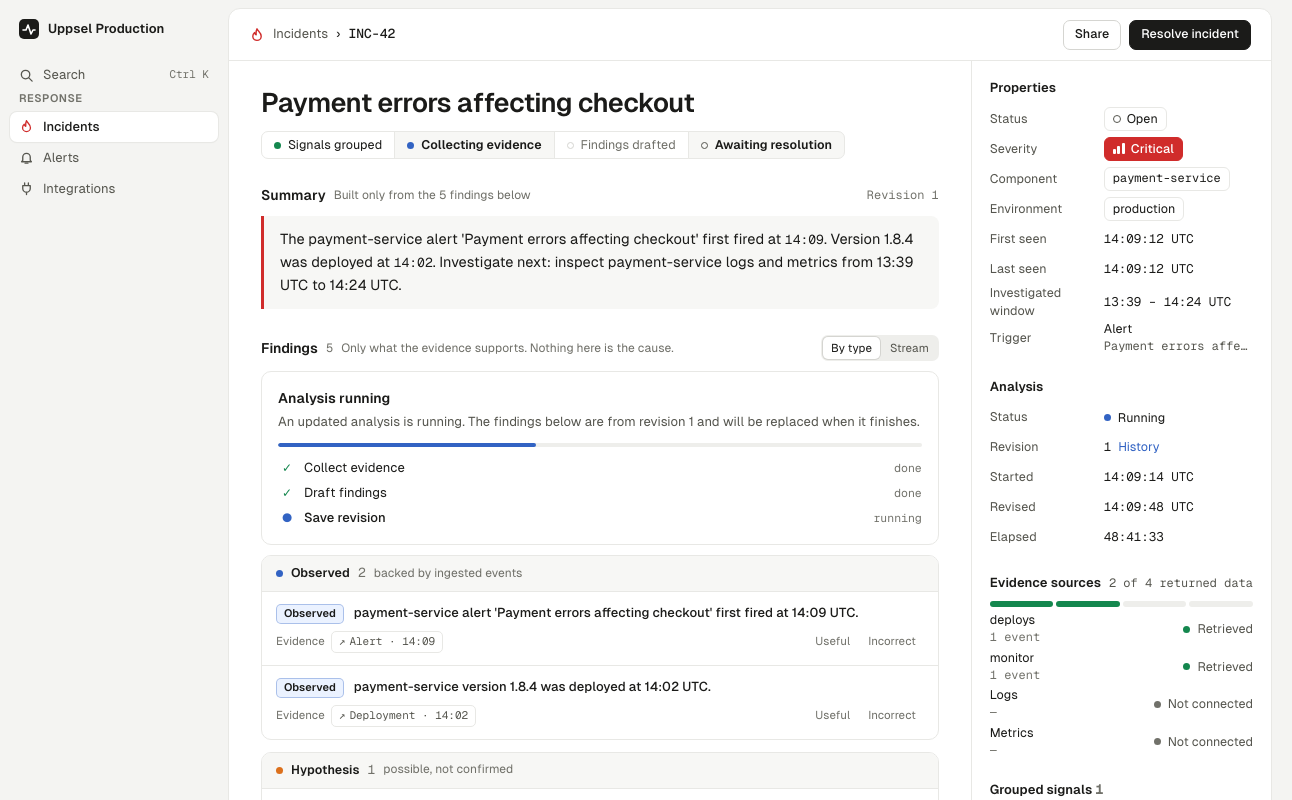
Test: incident detail › saved feedback › a poll answered after the save does not undo it
Click the 1st button "Useful" at coordinates (833, 642), box [807, 631, 858, 653]
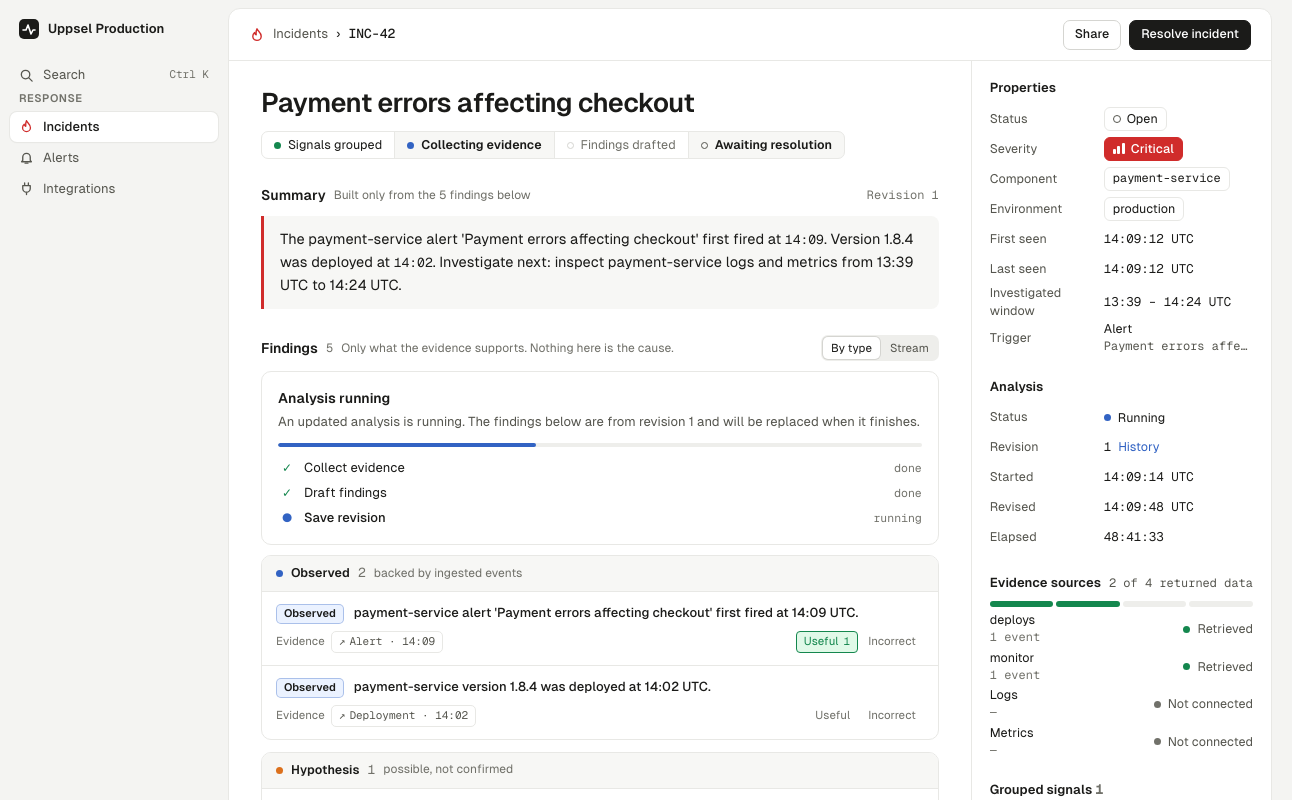
Expected: the button "Useful 1" is enabled, [796, 631, 858, 653]
Expected: the button "Useful 1" is shown, [796, 631, 858, 653]
